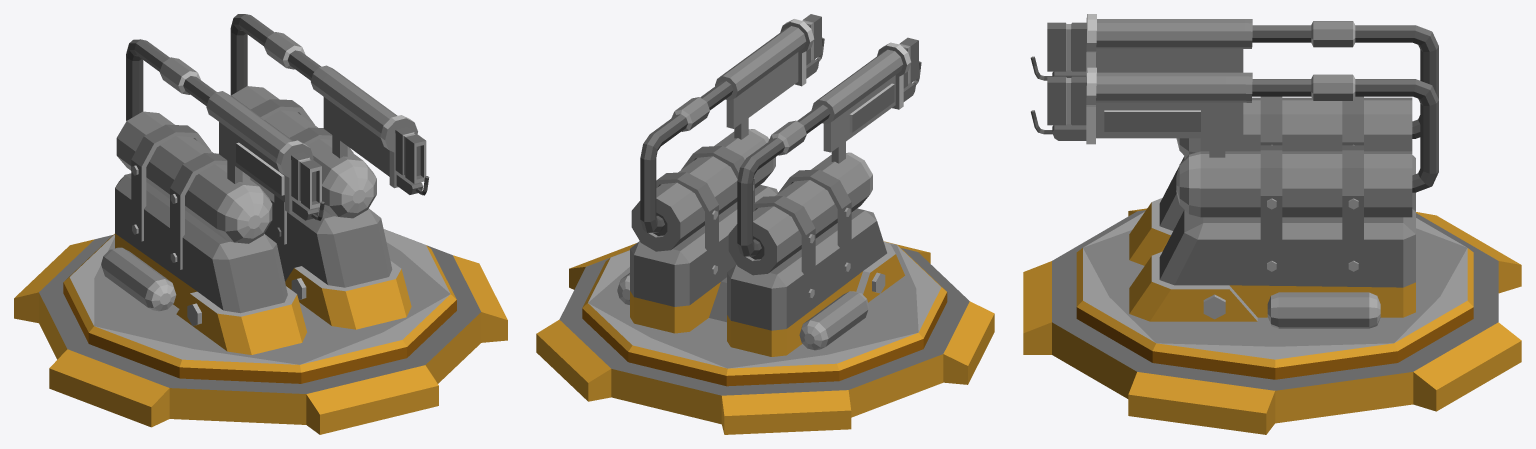
The model's file is tower_napalm_yellow_2.fbx.
3 renders of one model, left to right at view 1: azimuth 30°, elevation 25°; view 2: azimuth 150°, elevation 25°; view 3: azimuth 270°, elevation 25°, orthographic. The views are drawn at different scales.
Parts seen in each view (by area): view 1: top_napalm_yellow_2, tower_napalm_yellow_2; view 2: top_napalm_yellow_2, tower_napalm_yellow_2; view 3: top_napalm_yellow_2, tower_napalm_yellow_2.
Part boxes in pixels (x1=…): top_napalm_yellow_2: x1=101, y1=14, x2=429, y2=354; tower_napalm_yellow_2: x1=14, y1=229, x2=507, y2=434; top_napalm_yellow_2: x1=617, y1=14, x2=921, y2=356; tower_napalm_yellow_2: x1=536, y1=241, x2=994, y2=434; top_napalm_yellow_2: x1=1030, y1=14, x2=1438, y2=328; tower_napalm_yellow_2: x1=1023, y1=208, x2=1521, y2=434.
Bounding box in the file's own units: 190 × 112 × 181.
